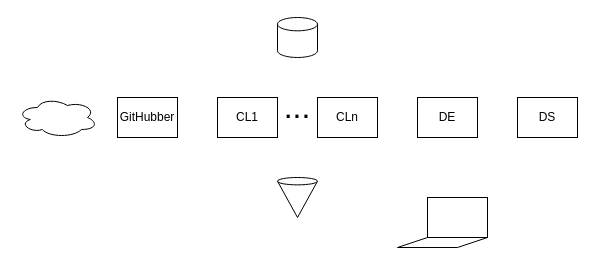
This 595x265 diagram has some shape labels left out. Here are the shapes that lost their labels. From the top down, the centre of each, then its label:
At (x=297, y=37): "DB".
At (x=57, y=117): "GitHub".
At (x=297, y=197): "S3".
